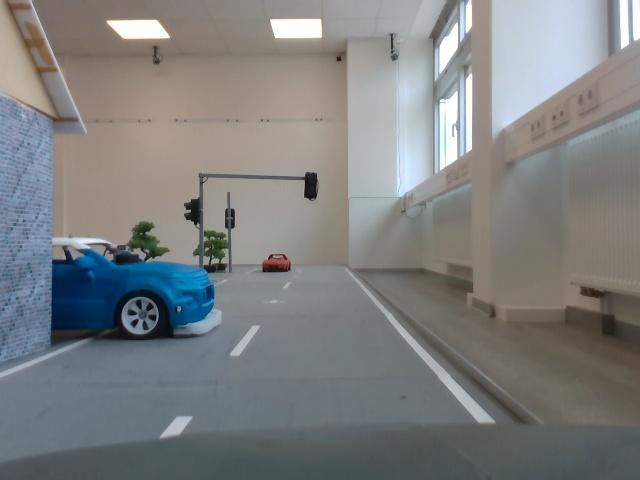car: (56, 239, 228, 342), (262, 252, 297, 276)
potted plant: (118, 215, 169, 261), (192, 223, 219, 280), (203, 232, 231, 283)
traffic light: (183, 197, 206, 228), (306, 165, 320, 201), (224, 209, 239, 230)
